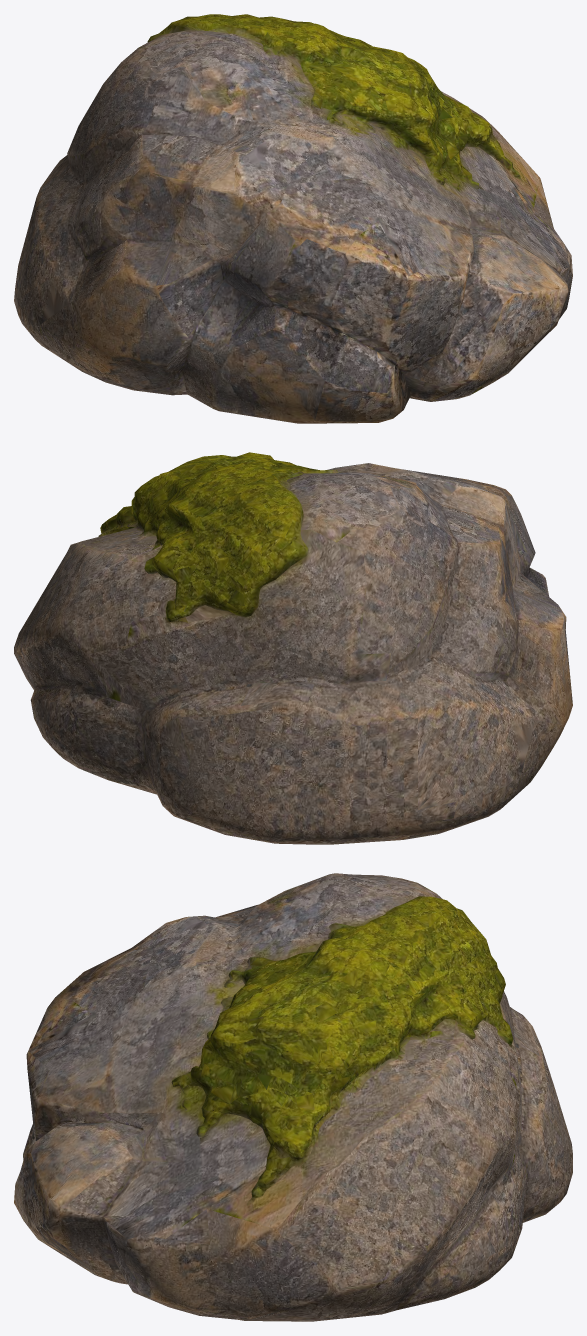
File: rock.glb
3 renders of one model, top to bottom at view 1: azimuth 30°, elevation 25°; view 2: azimuth 150°, elevation 25°; view 3: azimuth 270°, elevation 25°, orthographic. The views are drawn at different scales.
Visible parts, largest first — view 1: c2e1d427_a44e_4fa3_94d9_a1705ad934bc; view 2: c2e1d427_a44e_4fa3_94d9_a1705ad934bc; view 3: c2e1d427_a44e_4fa3_94d9_a1705ad934bc.
Boxes of the visible parts, left/top/right/bottom form: c2e1d427_a44e_4fa3_94d9_a1705ad934bc: left=14, top=14, right=572, bottom=423; c2e1d427_a44e_4fa3_94d9_a1705ad934bc: left=14, top=452, right=572, bottom=844; c2e1d427_a44e_4fa3_94d9_a1705ad934bc: left=14, top=873, right=572, bottom=1321.
Size of the model in its own units: 1 by 0.5865 by 0.9446.
1 material, 1 textured.
